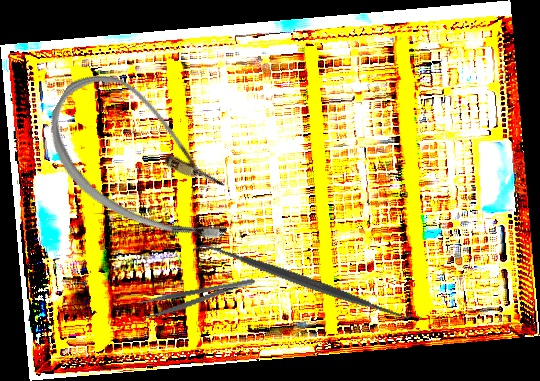Cannula: (24, 56, 267, 266)
Dressing Forceps: (138, 275, 258, 321)
Spatula Surgical: (191, 230, 416, 333)
